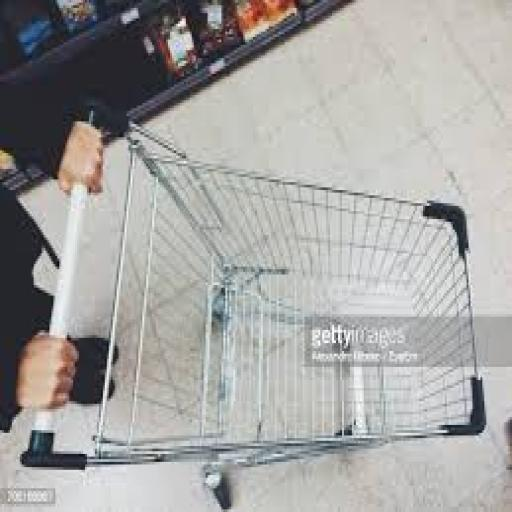shopping_cart: (20, 102, 488, 509)
